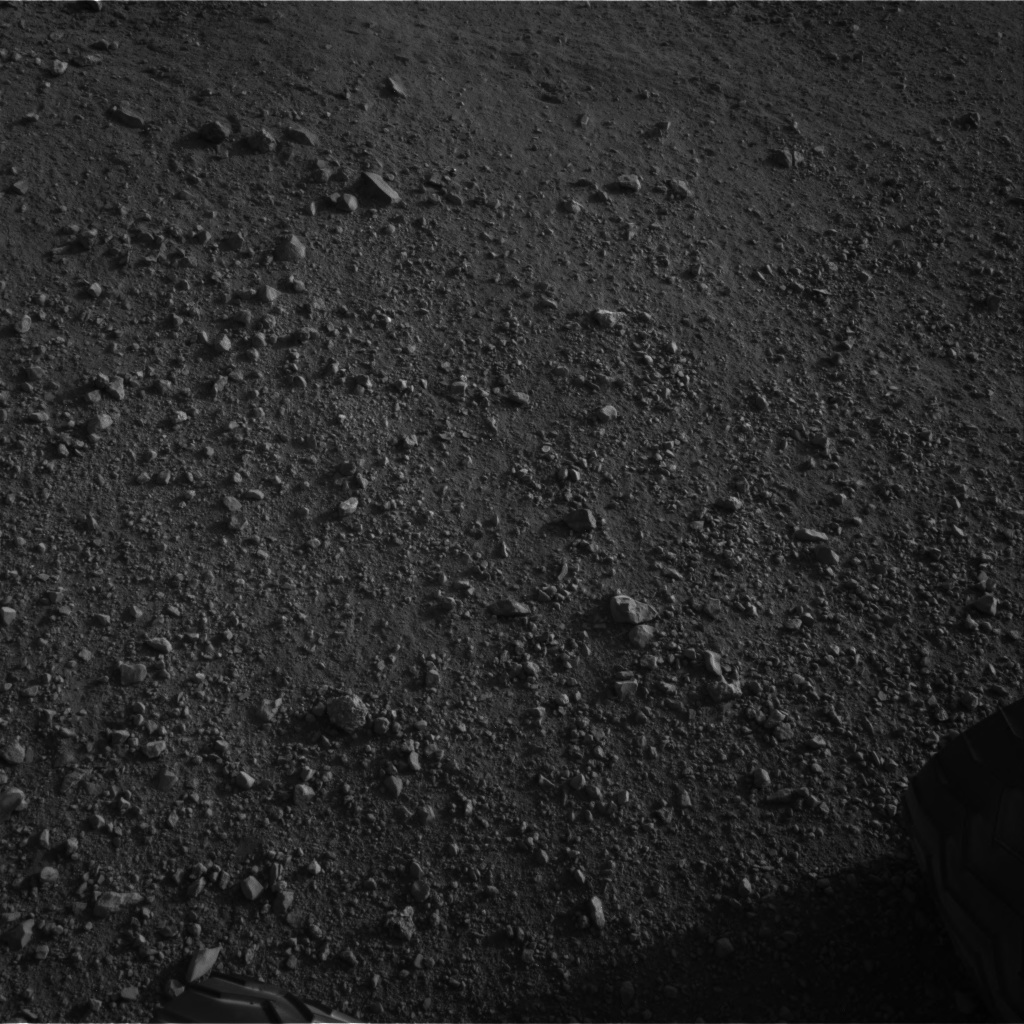soil: (6, 8, 1019, 976)
